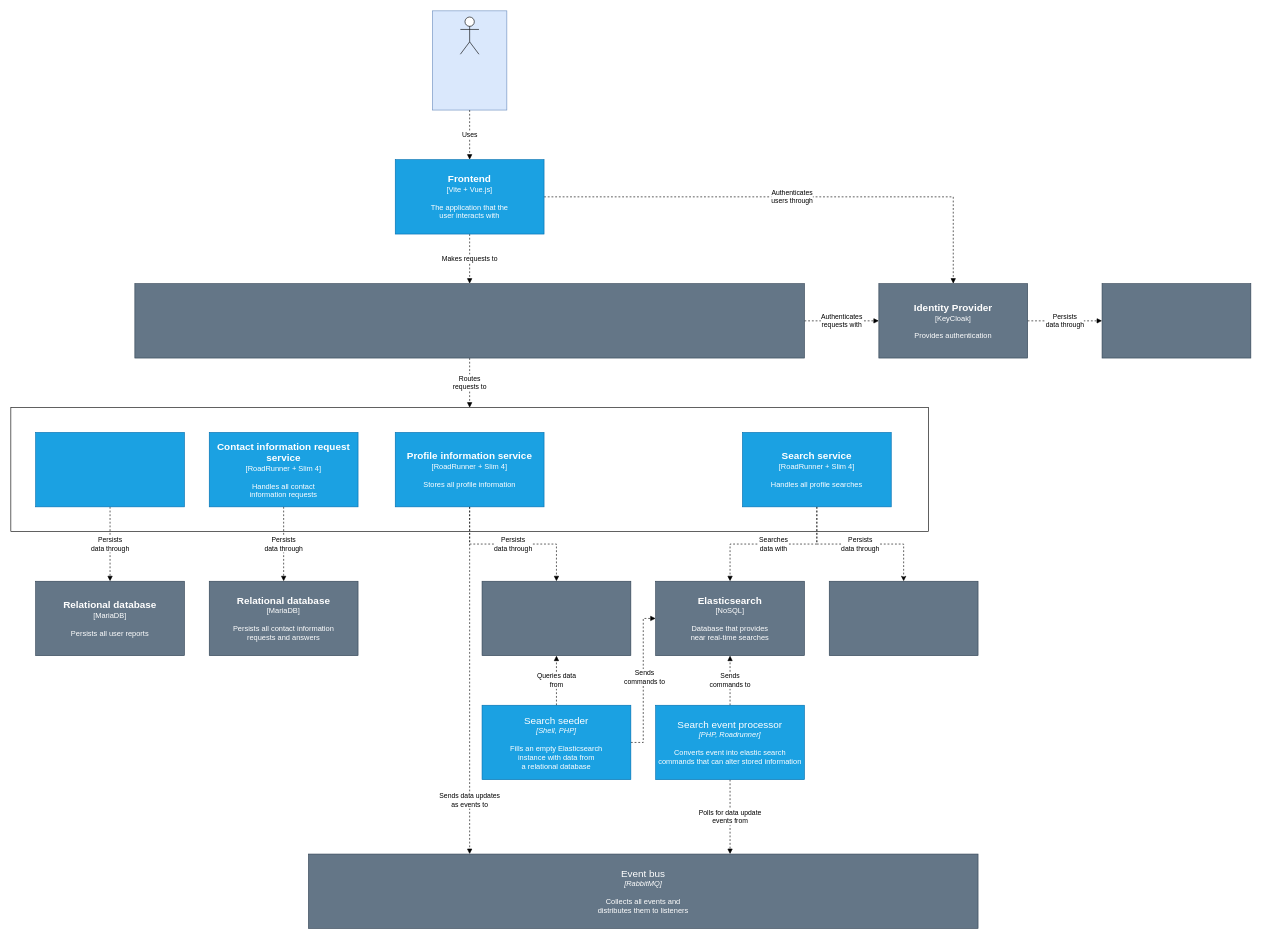
Some shapes in this 1262 by 939 pixel diagram are drawn without their labels. The shapes that lost their labels are listed below. From the top down, each one's centre as x and y in pixels, then its label:
At point (469, 35): "User [Person] Uses the application to find friends".
At point (469, 320): "API gateway [KrakenD] Distributes all API calls to the relevant services".
At point (1176, 320): "Relational database [MariaDB] Persists all data".
At point (109, 469): "Moderation service [RoadRunner + Slim 4] Handles all moderation functionality".
At point (556, 618): "Relational database [MariaDB] Persists all profile information".
At point (903, 618): "Relational database [MariaDB] Persists all search preferences".
